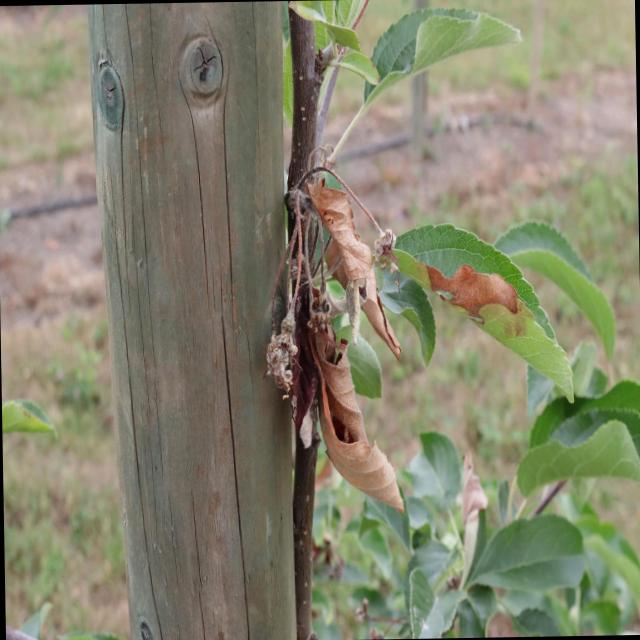-FireBlight-: (258, 142, 414, 516)
